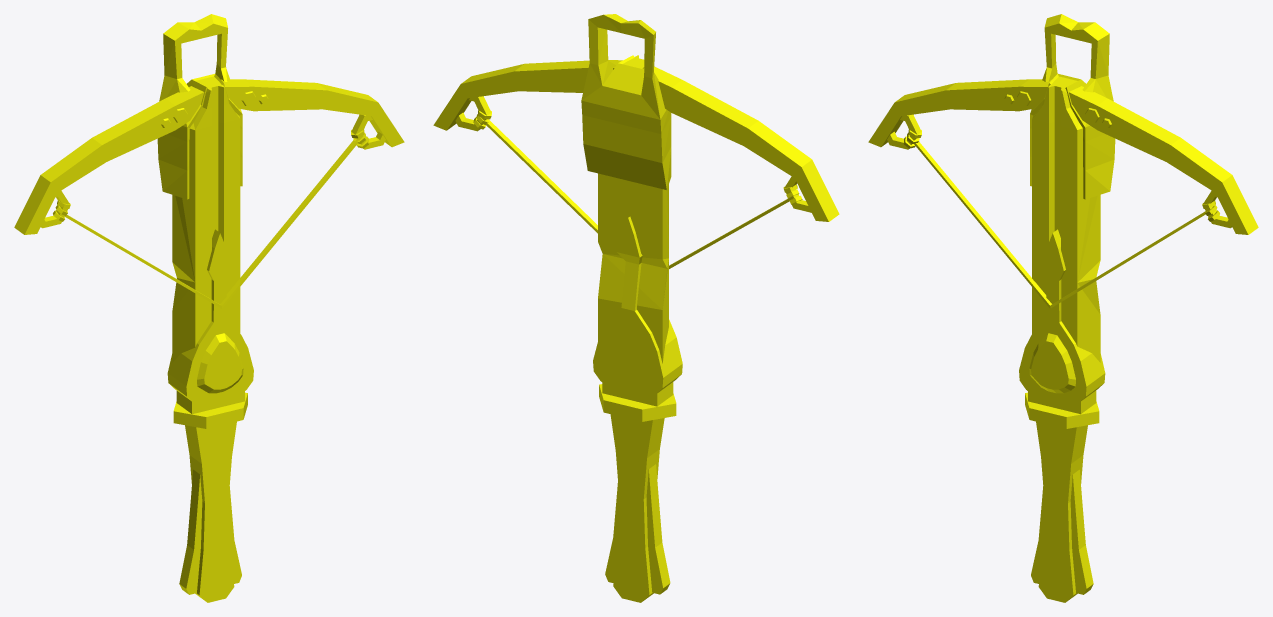
The model's file is _crossbow_1.glb.
3 views of the same model, side by side, from view 1: azimuth 30°, elevation 25°; view 2: azimuth 150°, elevation 25°; view 3: azimuth 330°, elevation 25° (orthographic). The views are drawn at different scales.
Parts seen in each view (by area): view 1: crossbow_1; view 2: crossbow_1; view 3: crossbow_1.
Part boxes in pixels (bbox=[...]): crossbow_1: bbox=[14, 14, 404, 602]; crossbow_1: bbox=[433, 14, 839, 602]; crossbow_1: bbox=[868, 14, 1258, 602].
Size of the model in its own units: 0.6793 by 0.9667 by 0.0942.
Materials: 1 (1 with a texture image).
